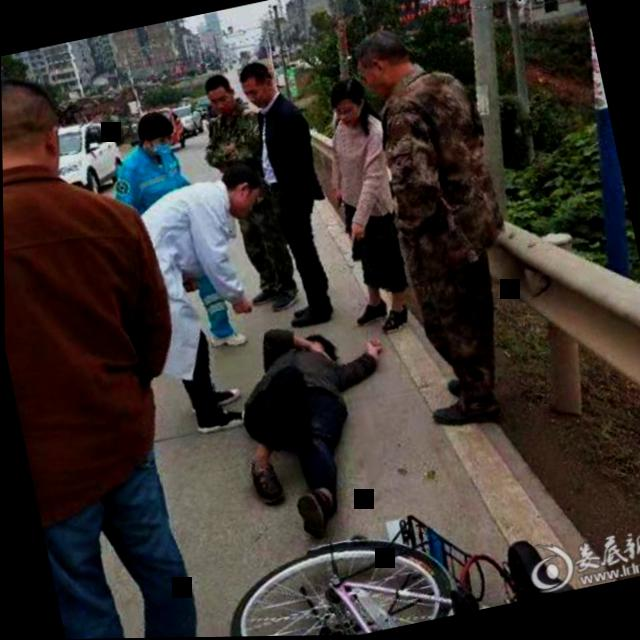Fall-Detected: (203, 275, 427, 563)
